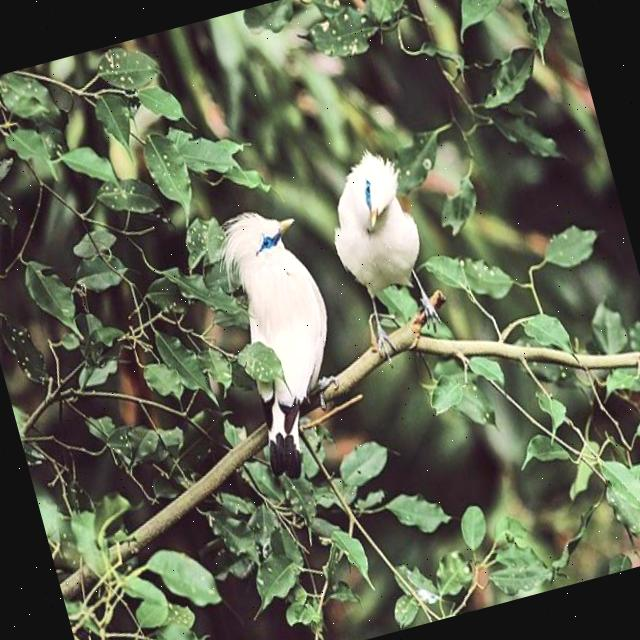Jalak Bali: (177, 187, 379, 496), (304, 130, 462, 378)
